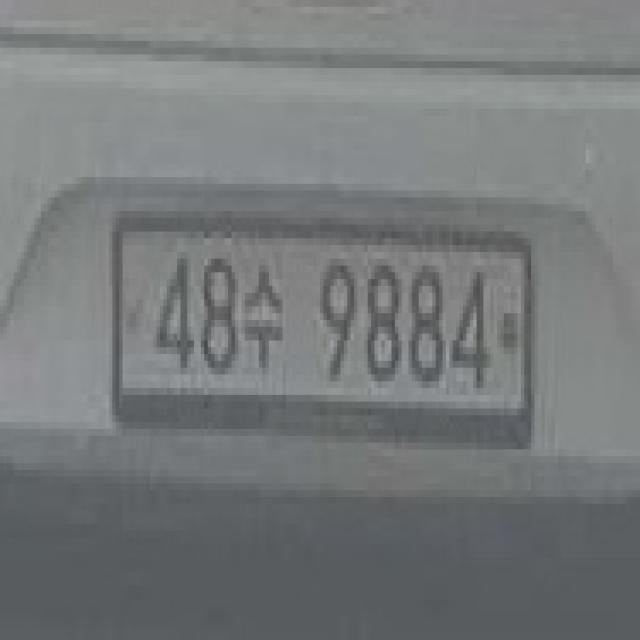4: (153, 237, 198, 405), (448, 258, 493, 411)
8: (406, 254, 446, 416), (365, 254, 403, 411), (204, 248, 238, 402)
9: (312, 240, 354, 411)
license_plate: (102, 188, 548, 482)
su: (246, 252, 285, 402)
